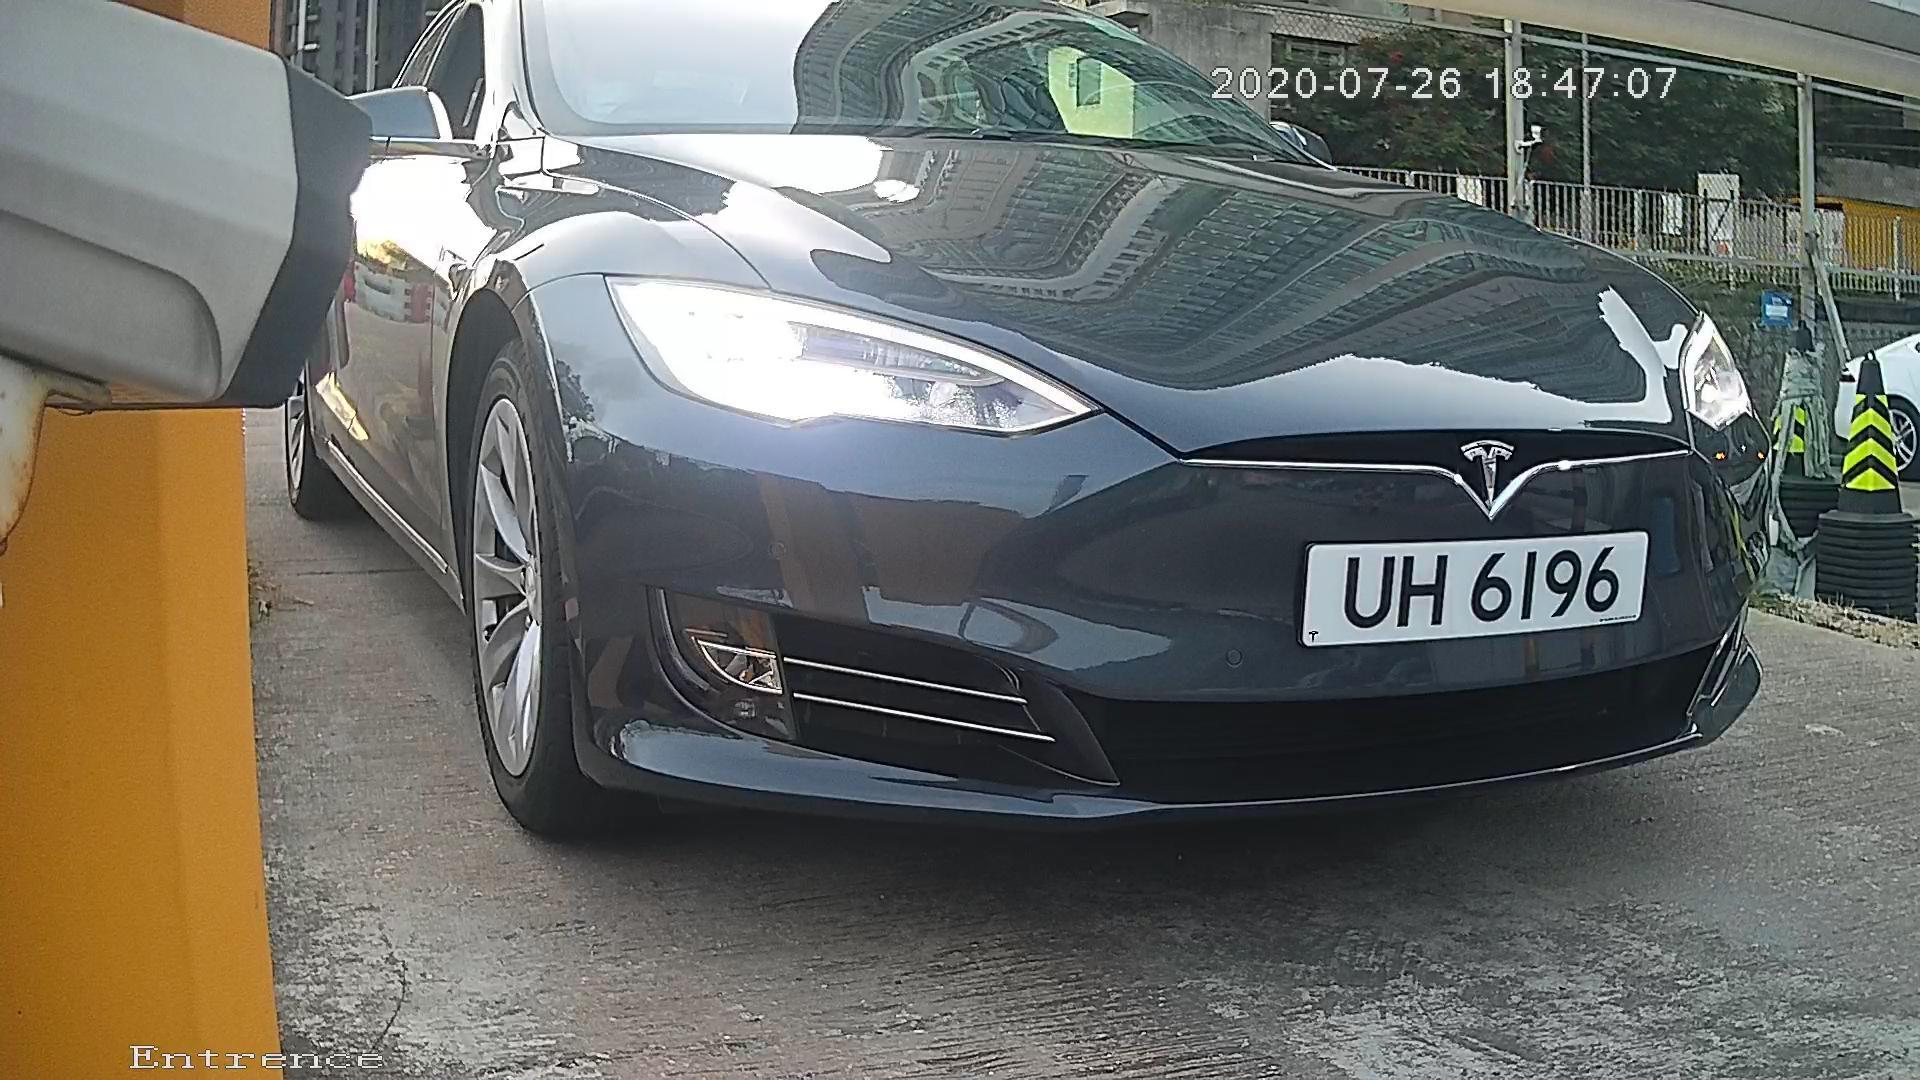License Plate: (1278, 526, 1663, 651)
